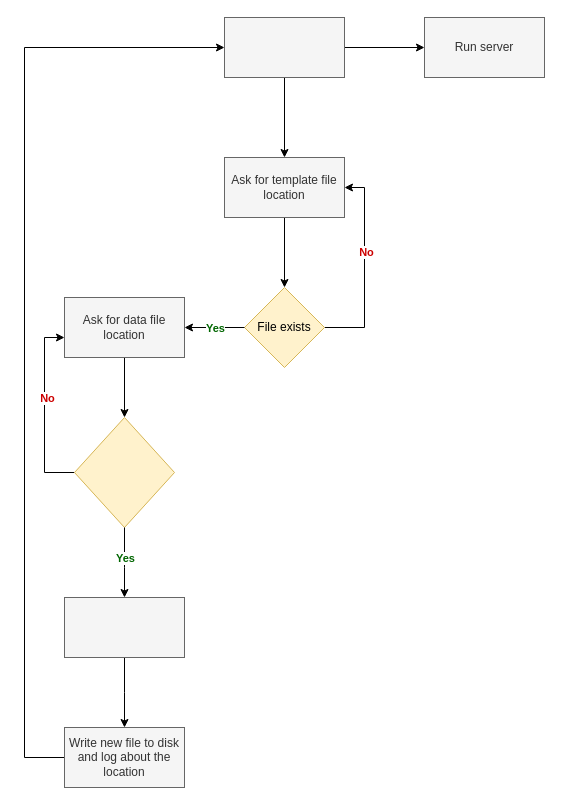
Image size: 562x805. Some labels were removed from this diagram. The box of each missing label's shape, as (x1, y1, x2, y2) in pixels:
File exists and includes valid JSON: (74, 416, 174, 528)
Generate new file: (64, 596, 184, 658)
Start app: (224, 16, 344, 78)
